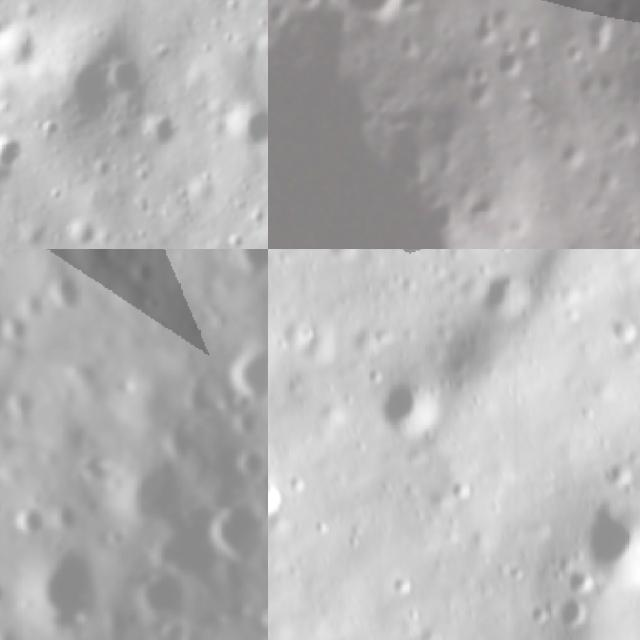crater: (1, 529, 126, 640), (98, 439, 205, 545), (137, 505, 234, 599), (197, 478, 268, 578), (373, 370, 452, 440), (128, 558, 202, 632), (584, 497, 640, 583), (213, 325, 268, 411), (30, 264, 95, 332), (316, 0, 427, 39), (475, 266, 530, 323), (113, 249, 166, 302), (578, 0, 631, 52), (6, 497, 56, 548), (0, 379, 47, 431), (214, 249, 268, 294), (227, 440, 268, 489), (145, 609, 203, 640), (222, 111, 268, 148), (555, 594, 593, 633), (268, 416, 286, 490), (0, 22, 31, 64), (106, 61, 140, 98), (561, 566, 600, 595), (618, 249, 640, 288), (0, 615, 33, 640), (0, 135, 25, 167), (282, 0, 333, 15), (268, 481, 286, 518)
